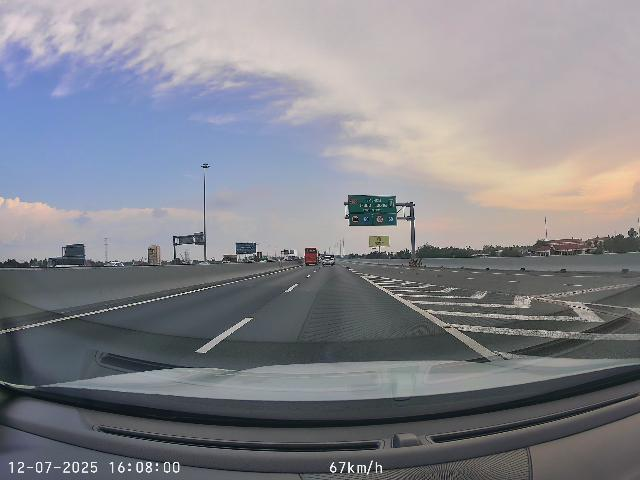127-toc-do-toi-da-100: (351, 215, 360, 224), (375, 215, 384, 224)
306-toc-do-toi-thieu-60: (387, 215, 394, 223), (363, 215, 370, 223)
437-bat-dau-duong-cao-toc: (388, 199, 394, 208)
